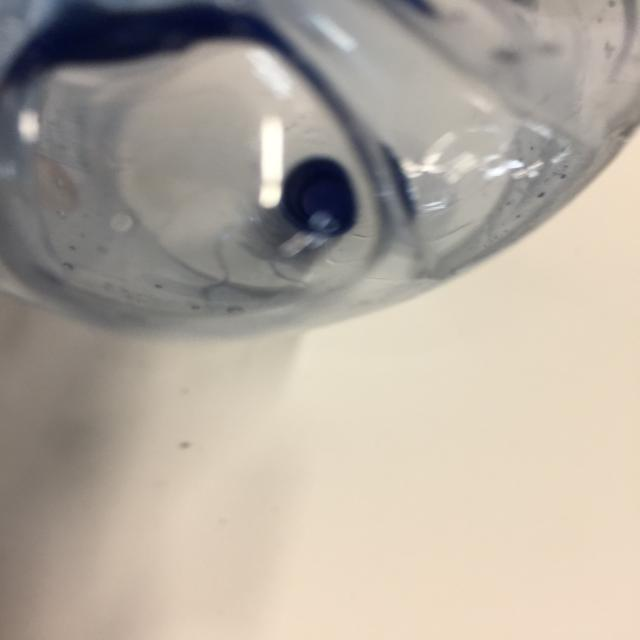plastic: (0, 1, 640, 346)
